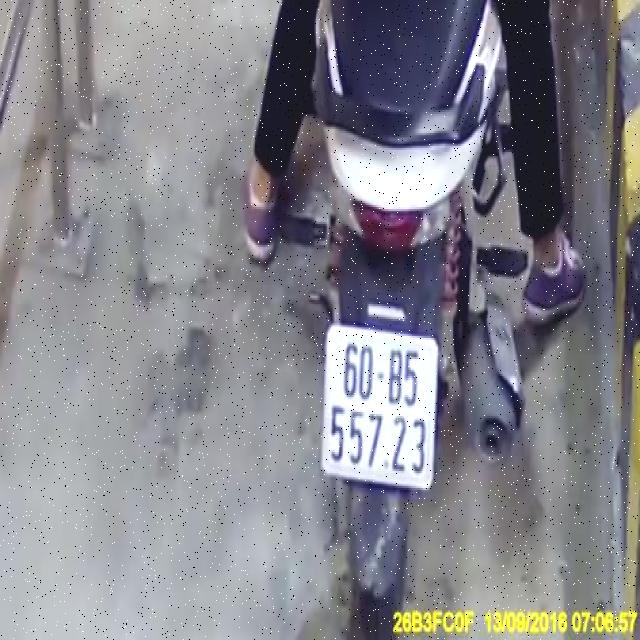0: (358, 342, 374, 401)
2: (391, 415, 408, 473)
3: (410, 417, 427, 474)
5: (329, 403, 345, 462), (348, 408, 364, 466), (404, 350, 419, 408)
6: (343, 340, 358, 398)
7: (367, 412, 383, 469)
B: (388, 348, 403, 407)
